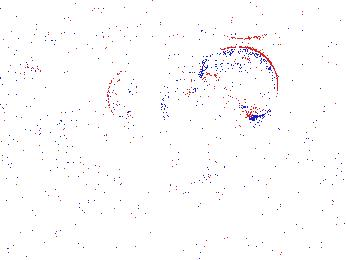moon jellyfish: (202, 46, 278, 120), (52, 107, 139, 170), (111, 40, 198, 98), (171, 93, 229, 168), (1, 65, 46, 120)
